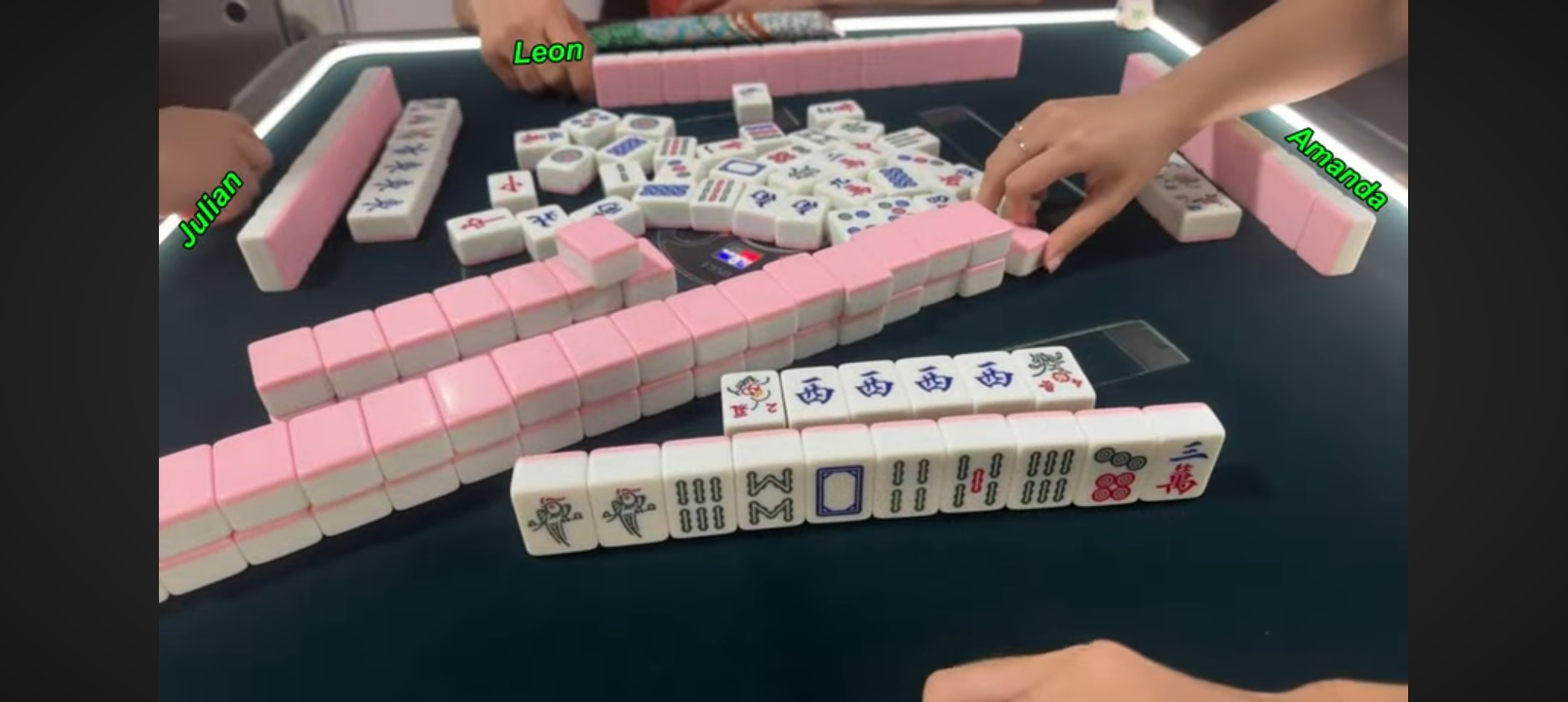TILE: (512, 487, 596, 553), (591, 481, 664, 546), (1153, 433, 1222, 500), (945, 449, 1019, 511), (877, 452, 945, 519), (1012, 446, 1085, 507), (737, 464, 805, 528), (663, 475, 733, 537), (809, 459, 876, 522), (1085, 445, 1155, 505), (1015, 346, 1097, 395), (956, 351, 1026, 407), (841, 360, 912, 410), (782, 367, 852, 417), (720, 370, 787, 422), (898, 354, 962, 406)
